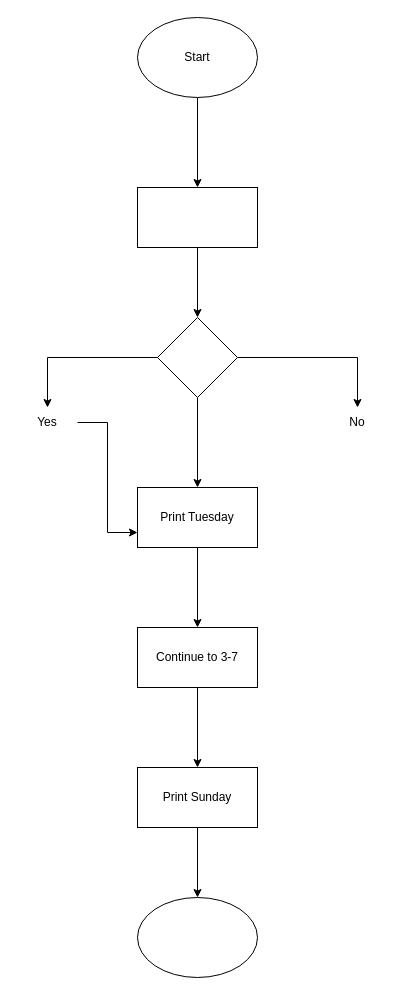
Some shapes in this 404 by 995 pixel diagram are drawn without their labels. Each missing label, with the centre of its shape:
"Input number 1-7" goes at (197,217).
"Is number = 1?" goes at (197,357).
